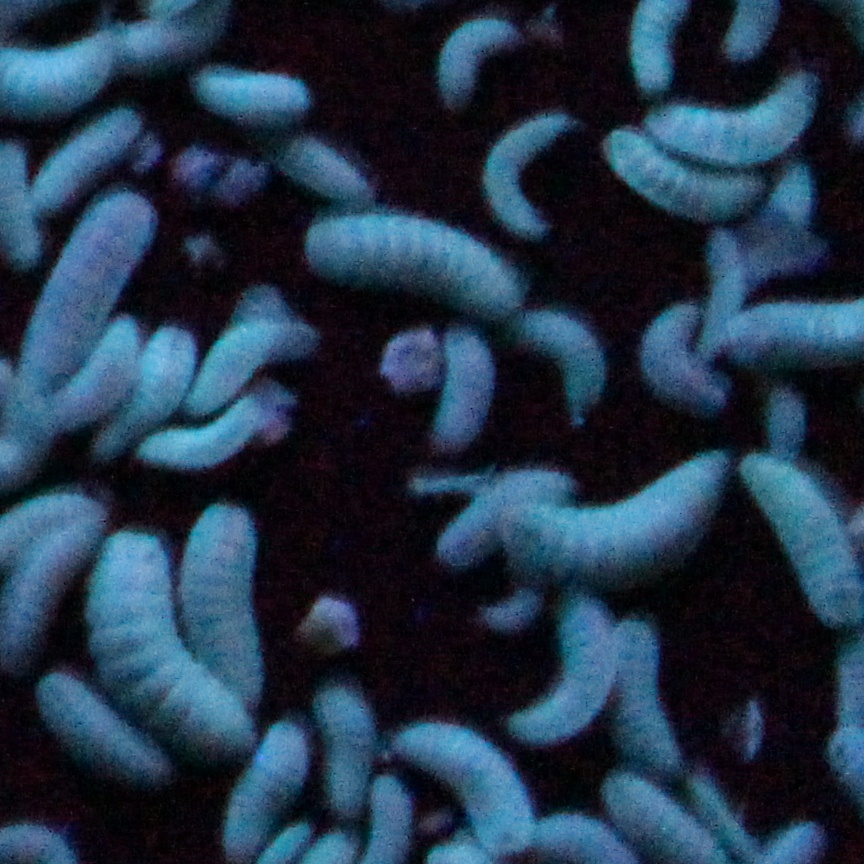larve: (88, 535, 226, 755), (485, 469, 723, 586), (298, 215, 521, 322), (738, 459, 852, 639), (399, 720, 527, 838), (610, 131, 762, 228), (37, 679, 167, 783), (645, 93, 833, 163), (528, 595, 619, 734), (191, 515, 266, 675), (514, 309, 614, 428), (481, 117, 578, 237), (614, 622, 688, 772), (187, 305, 287, 411), (639, 307, 724, 418), (58, 327, 146, 432), (428, 329, 500, 451), (434, 11, 519, 112), (142, 404, 271, 470), (45, 112, 134, 205), (192, 62, 309, 127), (315, 678, 368, 808), (269, 138, 370, 201), (241, 723, 284, 845)
